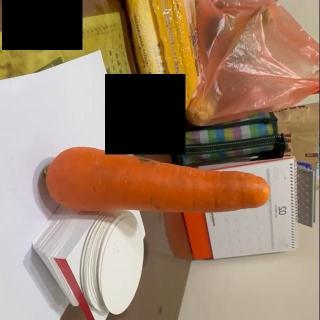carrot: (45, 146, 273, 214)
